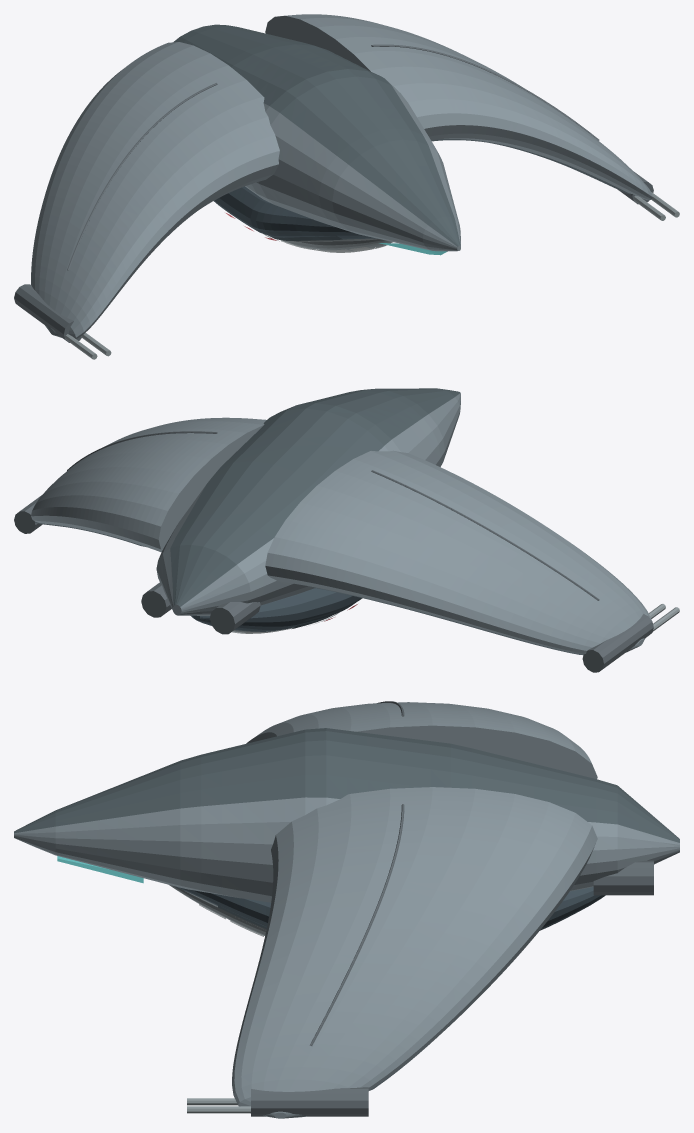
The model's file is ambwe_slate_off.glb.
3 views of the same model, one above another, from view 1: azimuth 30°, elevation 25°; view 2: azimuth 150°, elevation 25°; view 3: azimuth 270°, elevation 25° (orthographic). The views are drawn at different scales.
Parts seen in each view (by area): view 1: material_0, material_1, material_2, material_9, material_11, material_3, material_5; view 2: material_0, material_1, material_9, material_2, material_10; view 3: material_0, material_1, material_9, material_2, material_11, material_3.
Part boxes in pixels (left/top/right/bottom): material_0: left=31, top=14, right=652, bottom=339; material_1: left=173, top=24, right=460, bottom=246; material_2: left=214, top=186, right=377, bottom=239; material_9: left=14, top=44, right=653, bottom=342; material_11: left=65, top=192, right=679, bottom=359; material_3: left=283, top=238, right=392, bottom=251; material_5: left=214, top=200, right=342, bottom=240; material_0: left=31, top=393, right=651, bottom=654; material_1: left=170, top=388, right=460, bottom=606; material_9: left=14, top=431, right=653, bottom=672; material_2: left=190, top=588, right=361, bottom=631; material_10: left=35, top=522, right=583, bottom=654; material_0: left=14, top=702, right=679, bottom=1118; material_1: left=14, top=728, right=679, bottom=842; material_9: left=251, top=701, right=653, bottom=1116; material_2: left=174, top=886, right=605, bottom=930; material_11: left=187, top=1098, right=250, bottom=1113; material_3: left=169, top=885, right=266, bottom=935.
Bounding box in the file's own units: 4.65 × 1.35 × 3.85.
